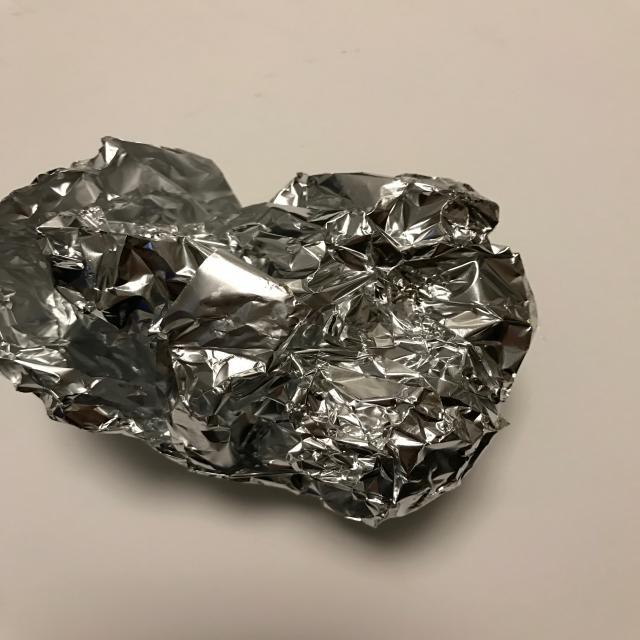metal: (0, 137, 541, 528)
